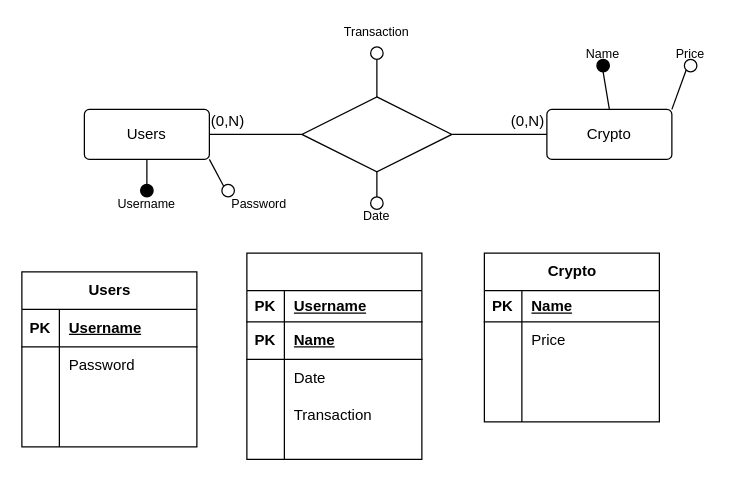
Some shapes in this 750 by 481 pixel diagram are drawn without their labels. The box of each missing label's shape, as (x1, y1, x2, y2) in pixels:
purchase: (301, 96, 452, 172)
Purchasings: (246, 252, 422, 459)
